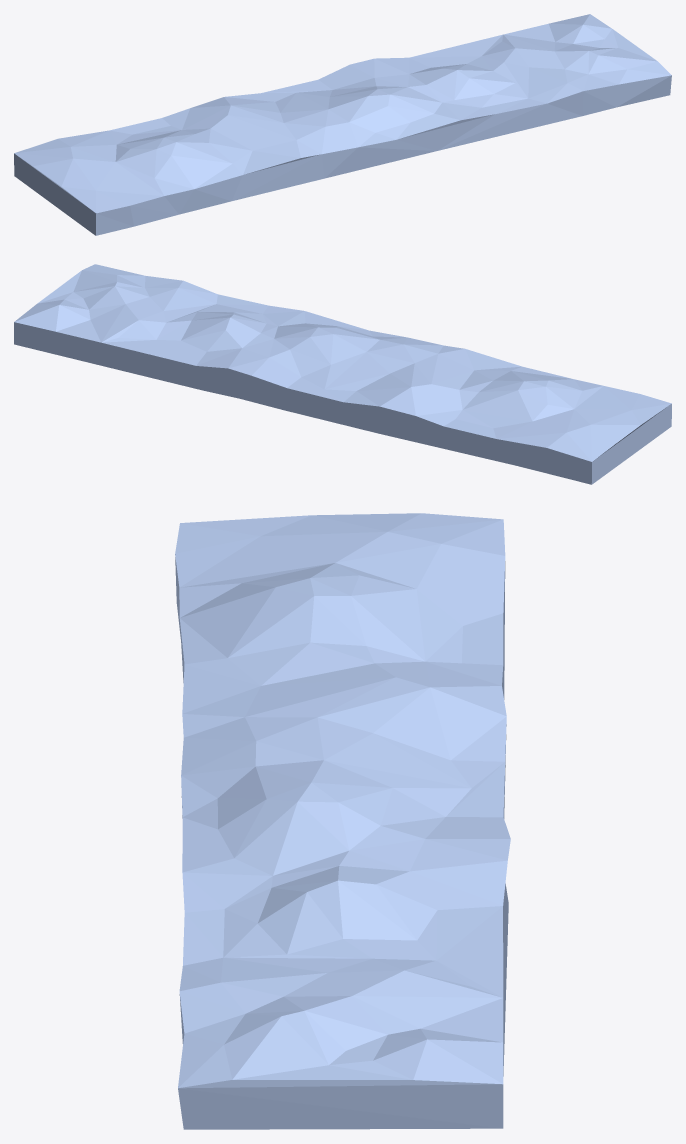
The model's file is snow-expanded.fbx.
3 views of the same model, one above another, from view 1: azimuth 30°, elevation 25°; view 2: azimuth 150°, elevation 25°; view 3: azimuth 270°, elevation 25° (orthographic). The views are drawn at different scales.
Visible parts, largest first — view 1: arena.001; view 2: arena.001; view 3: arena.001.
Part boxes in pixels (x1,y1,x2,y2): arena.001: (14,14,671,235); arena.001: (14,264,671,484); arena.001: (175,513,510,1129).
Size of the model in its own units: 5296 by 365 by 1332.
